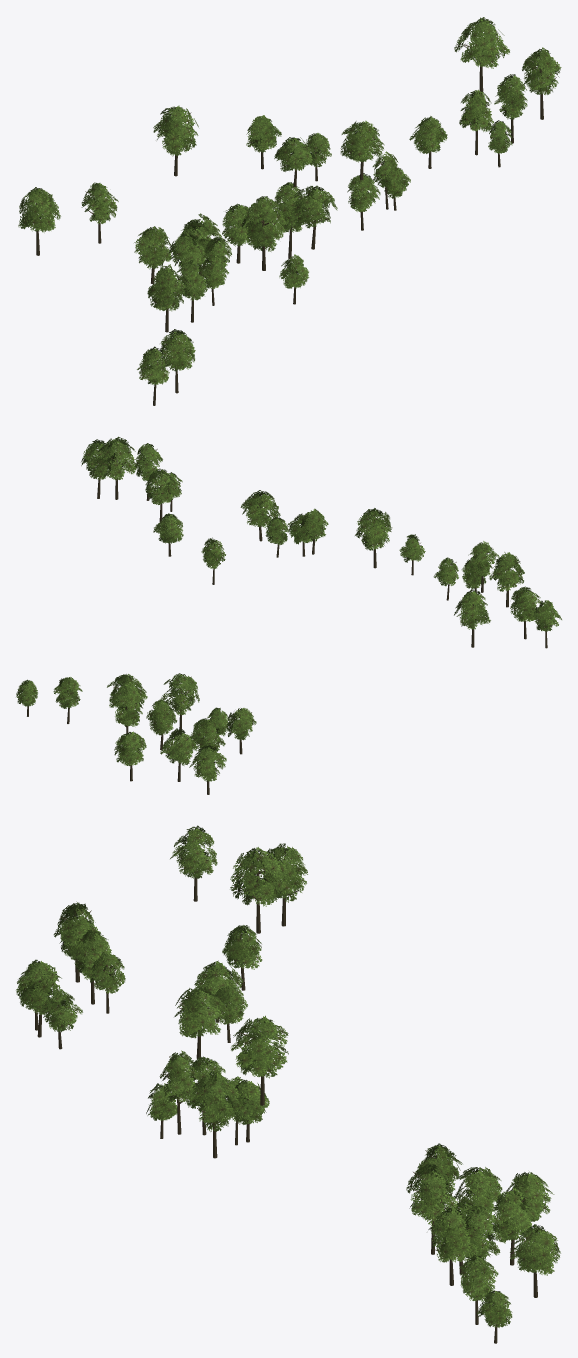
File: TRB8-FOREST-CHUNK-2-0.glb
3 renders of one model, top to bottom at view 1: azimuth 30°, elevation 25°; view 2: azimuth 150°, elevation 25°; view 3: azimuth 270°, elevation 25°, orthographic. The views are drawn at different scales.
Visible parts, largest first — view 1: TRB8-FOREST-CHUNK-2-0; view 2: TRB8-FOREST-CHUNK-2-0; view 3: TRB8-FOREST-CHUNK-2-0.
Part boxes in pixels (left/top/right/bottom): TRB8-FOREST-CHUNK-2-0: left=18, top=17, right=561, bottom=405; TRB8-FOREST-CHUNK-2-0: left=16, top=436, right=561, bottom=794; TRB8-FOREST-CHUNK-2-0: left=16, top=825, right=560, bottom=1343.
Size of the model in its own units: 41.95 by 22.99 by 31.91.
Materials: 2 (1 with a texture image).
